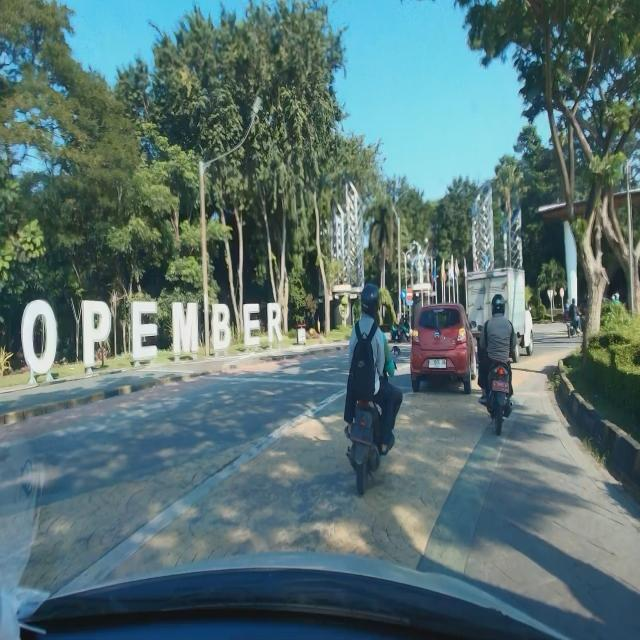car: (406, 300, 477, 396)
license-plate: (429, 359, 446, 368)
truck: (465, 266, 535, 364)
